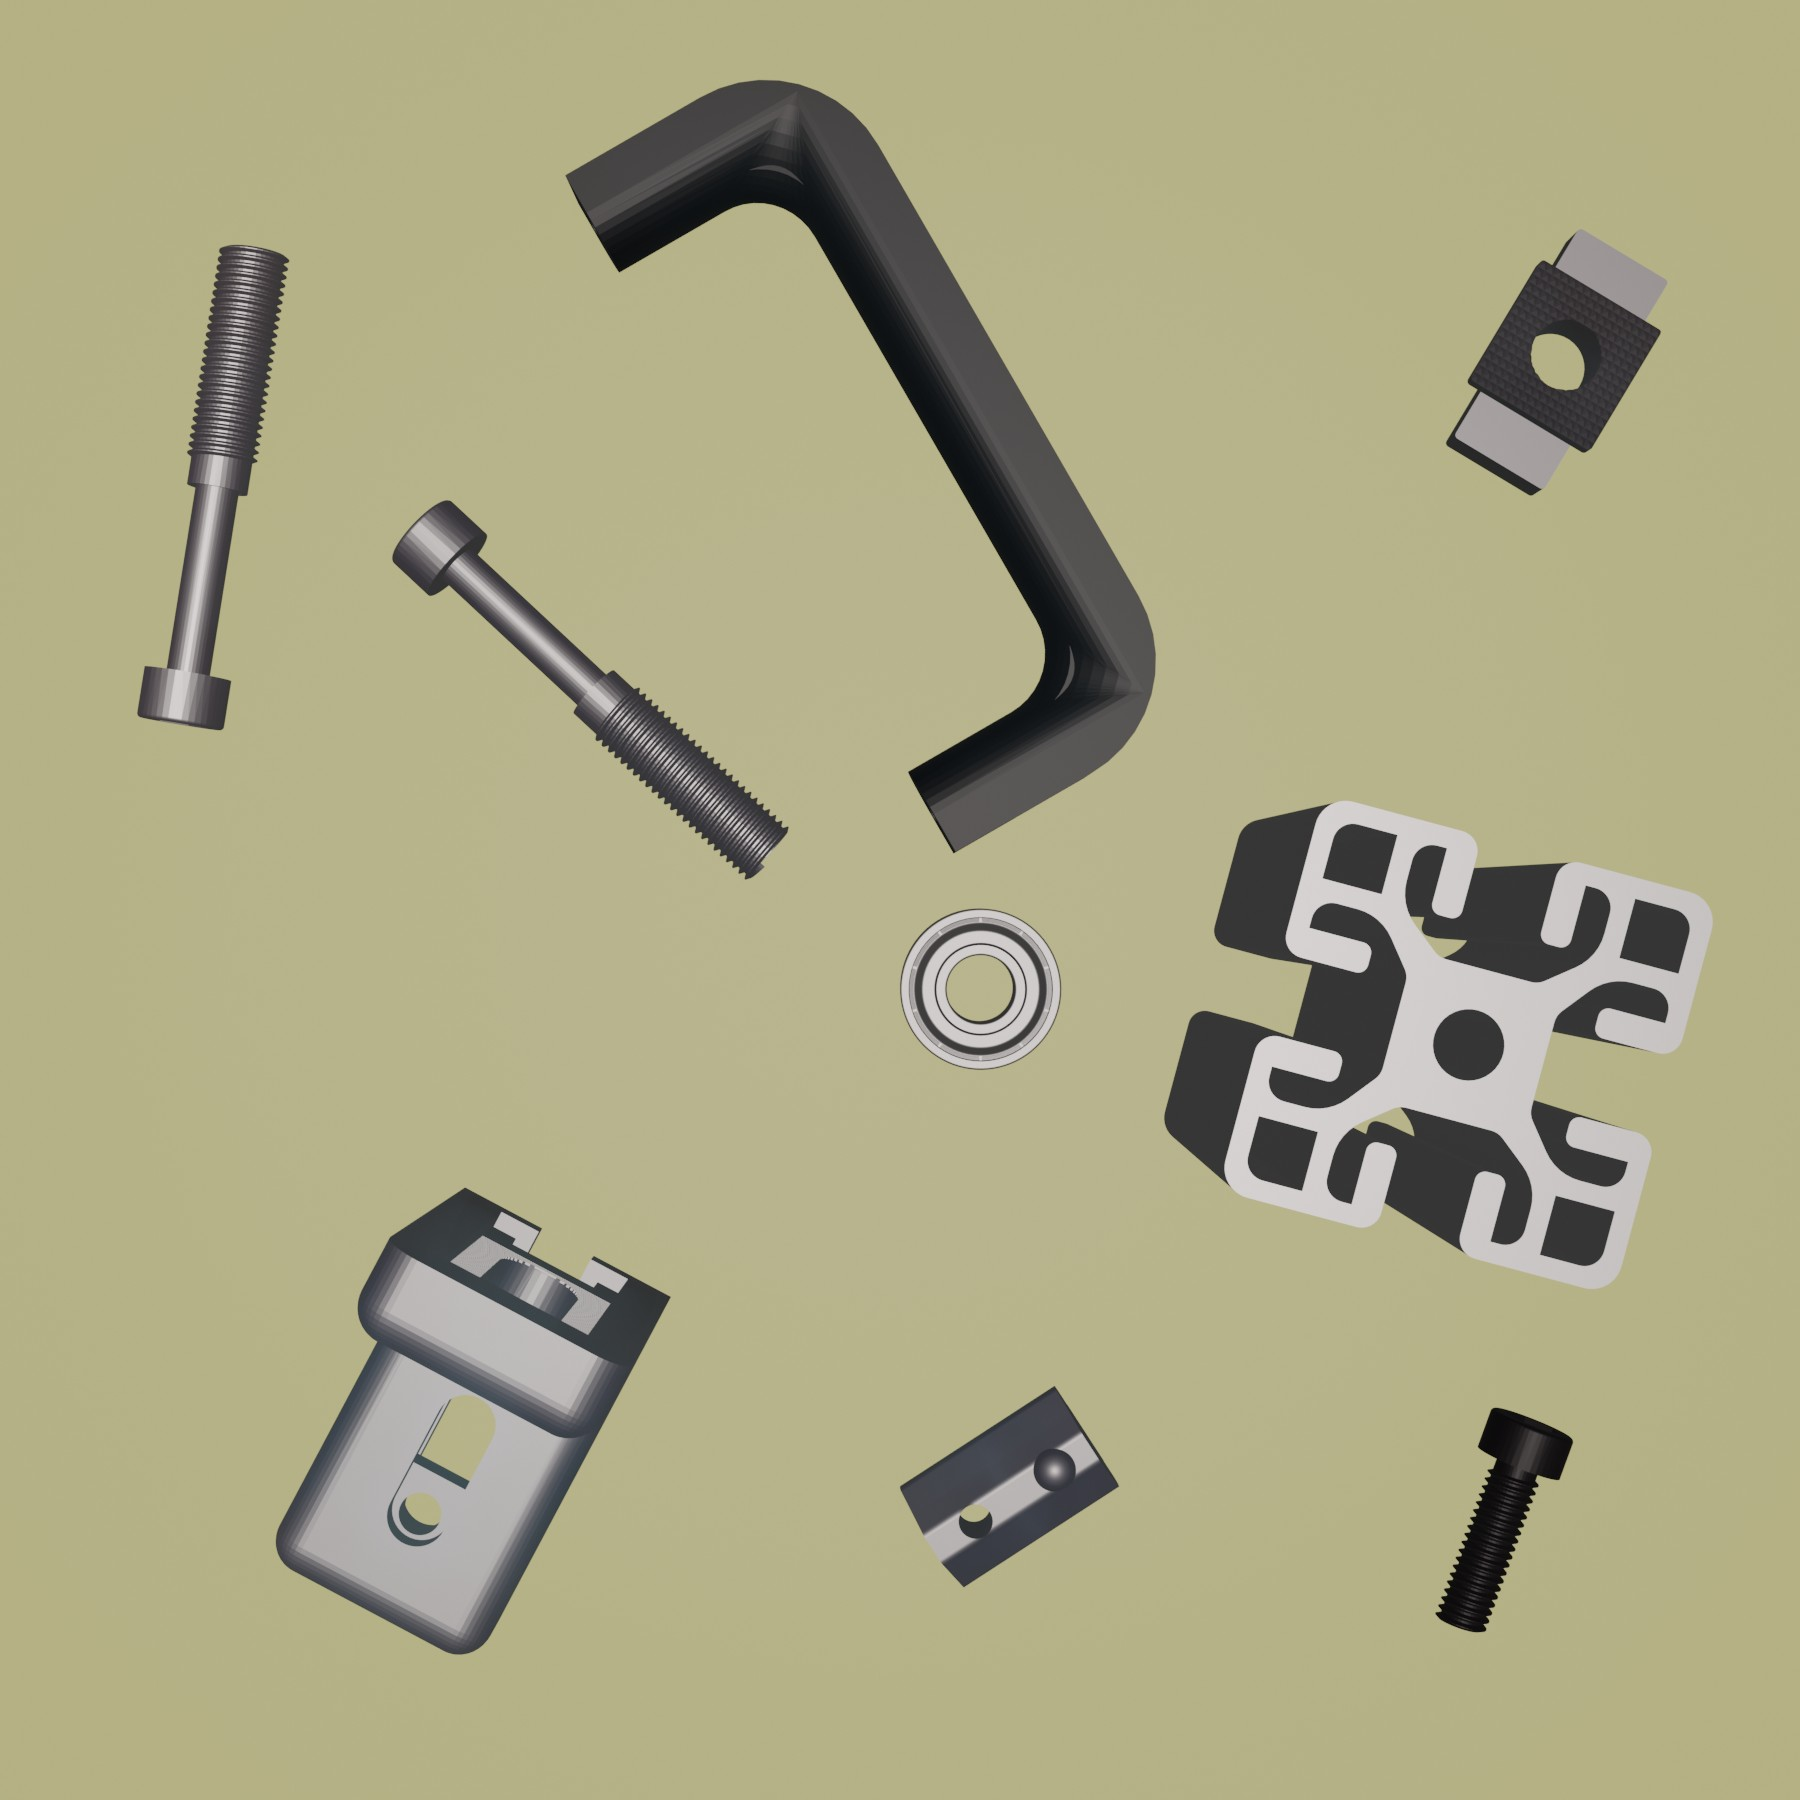Aluminium Extension: (1159, 801, 1718, 1296)
Ball Bearing: (897, 905, 1065, 1071)
Multiwinkel: (270, 1184, 673, 1657)
Pull Handle: (562, 77, 1159, 857)
Shoulder Socket Head Cap Screw: (387, 495, 790, 880), (135, 241, 293, 734)
Socket Head Cap Screw: (1432, 1408, 1573, 1638)
T Nut Square: (1442, 224, 1673, 499)
T Spring Nut: (897, 1380, 1123, 1587)
